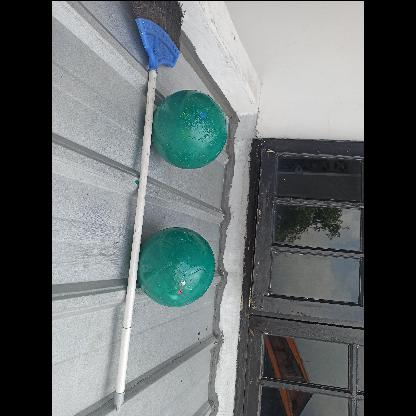green_ball: (137, 226, 217, 306), (150, 92, 230, 170)
